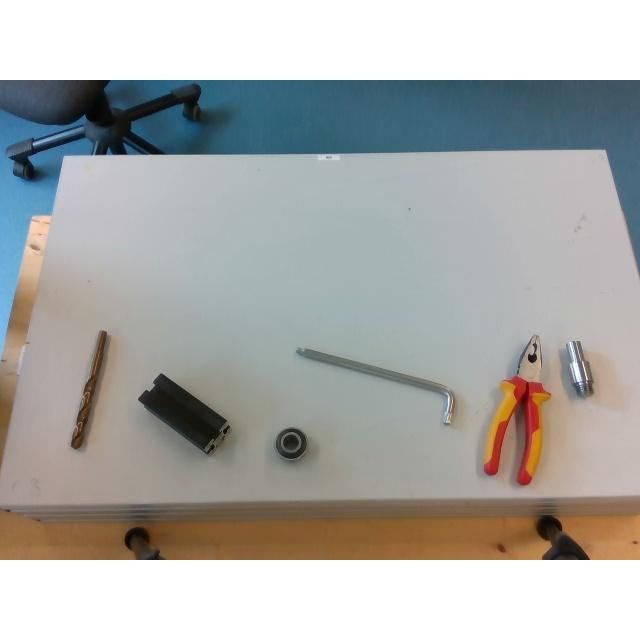AllenKey: (296, 348, 454, 424)
Axis2: (564, 340, 592, 396)
Bearing2: (275, 428, 307, 460)
Drill: (70, 330, 108, 448)
S40_40_B: (138, 374, 230, 454)
